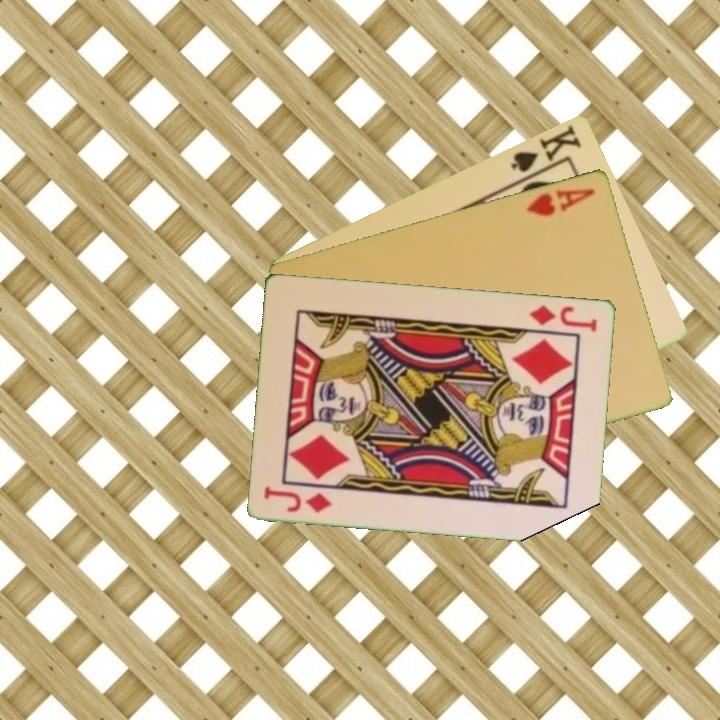Ah: (523, 184, 598, 219)
Jd: (526, 301, 601, 334), (260, 482, 335, 515)
Ks: (507, 121, 585, 185)
